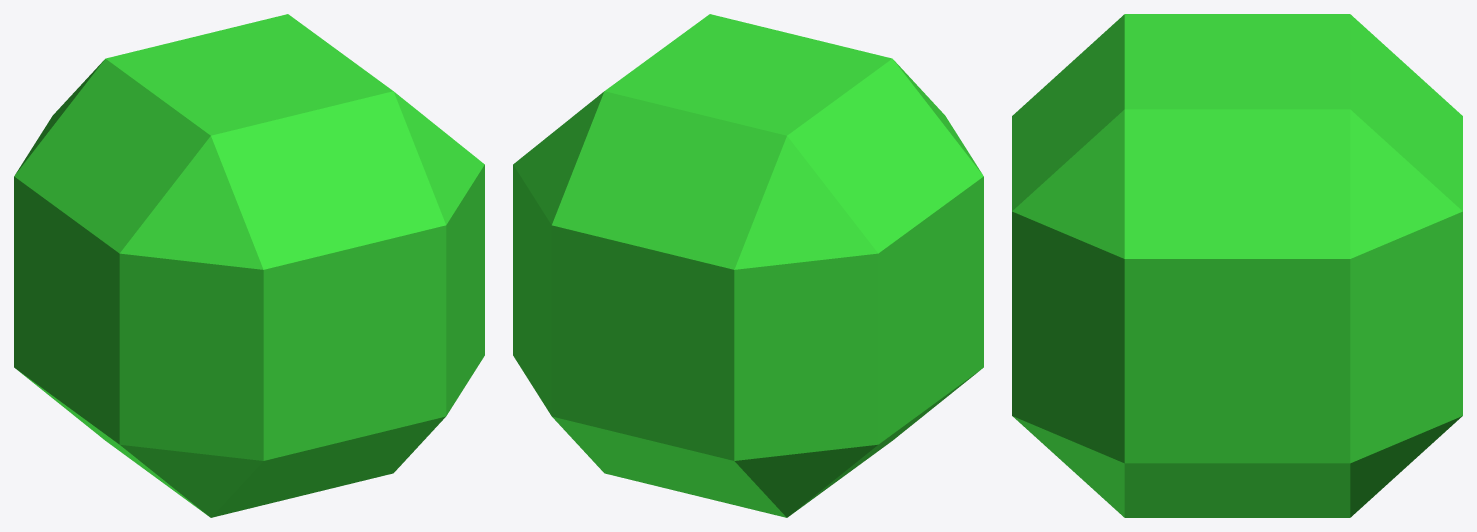
The model's file is roundedCube.fbx.
3 renders of one model, left to right at view 1: azimuth 30°, elevation 25°; view 2: azimuth 150°, elevation 25°; view 3: azimuth 270°, elevation 25°, orthographic. The views are drawn at different scales.
Parts seen in each view (by area): view 1: pCube1; view 2: pCube1; view 3: pCube1.
Boxes of the visible parts, bbox=[...] form: pCube1: bbox=[14, 14, 484, 517]; pCube1: bbox=[513, 14, 983, 517]; pCube1: bbox=[1012, 14, 1462, 517].
Bounding box in the file's own units: 1 × 1 × 1.
